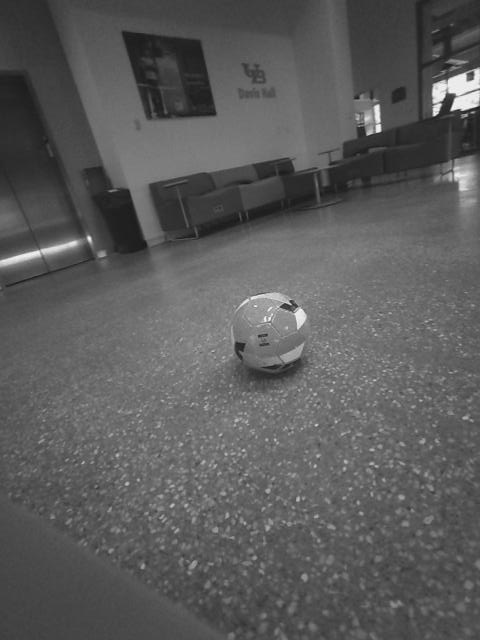ball: (216, 287, 323, 388)
